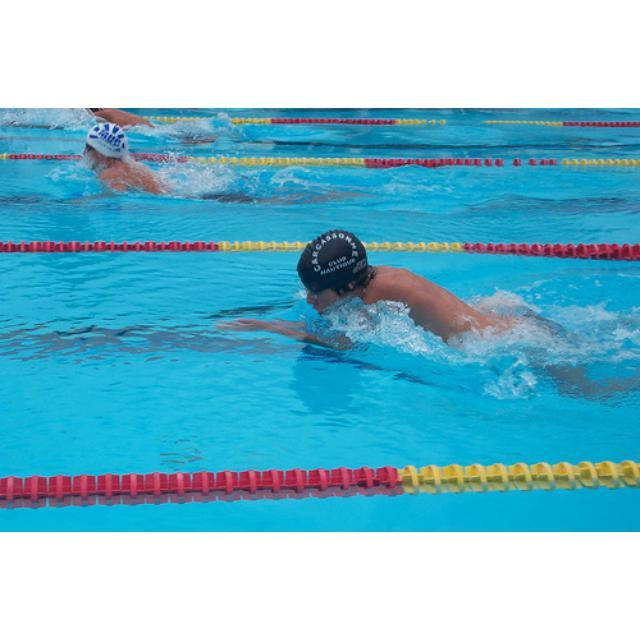human: (207, 226, 530, 357), (82, 119, 171, 199)
